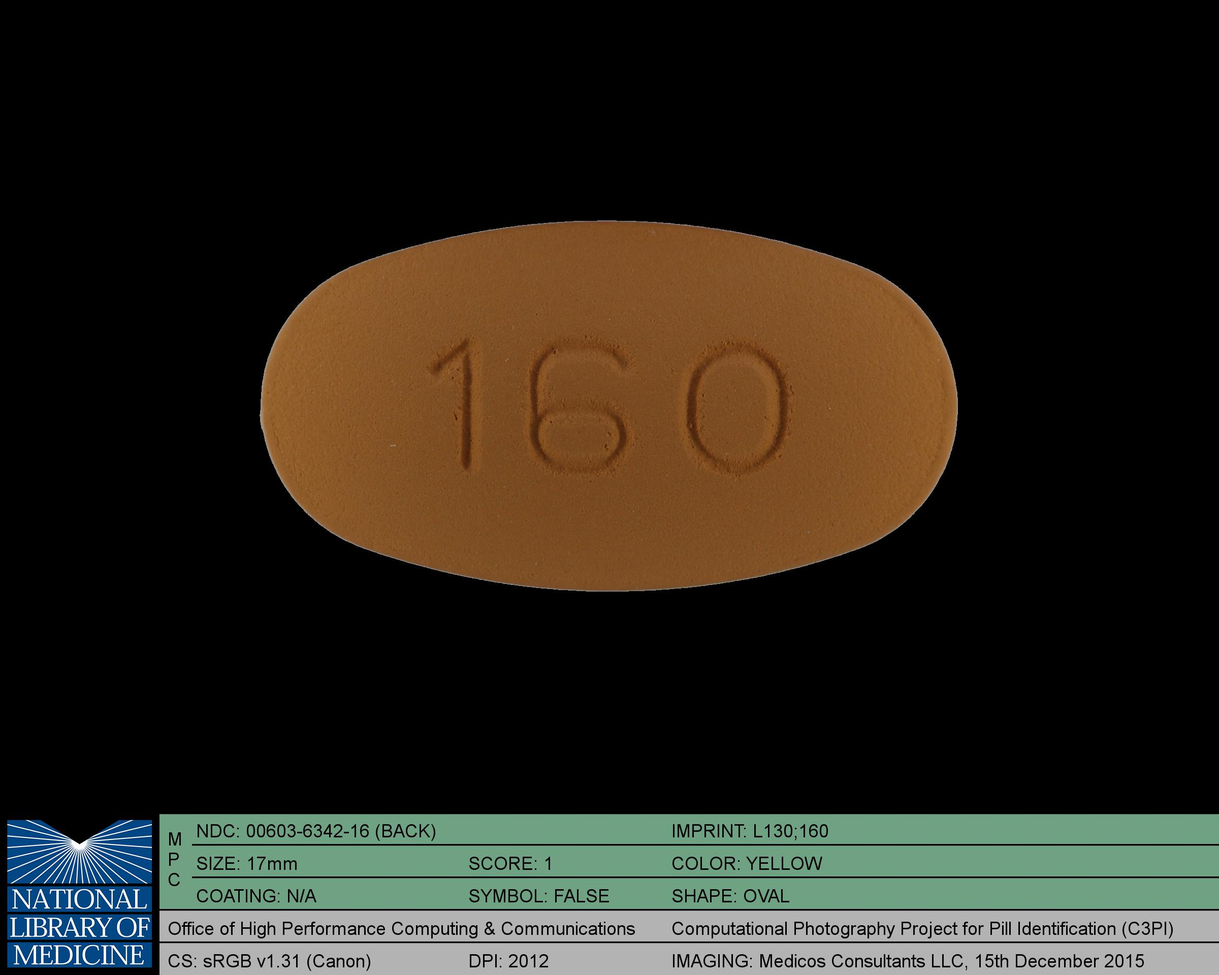Pill: (251, 208, 968, 603)
